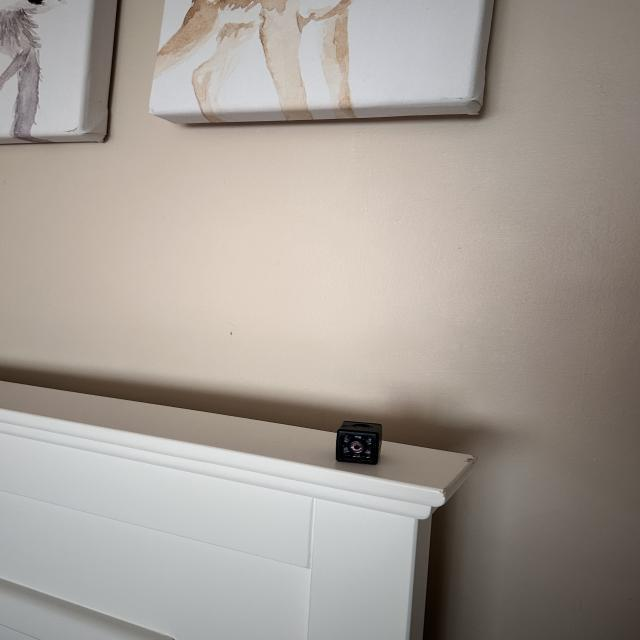hidden camera: (348, 440, 365, 454)
